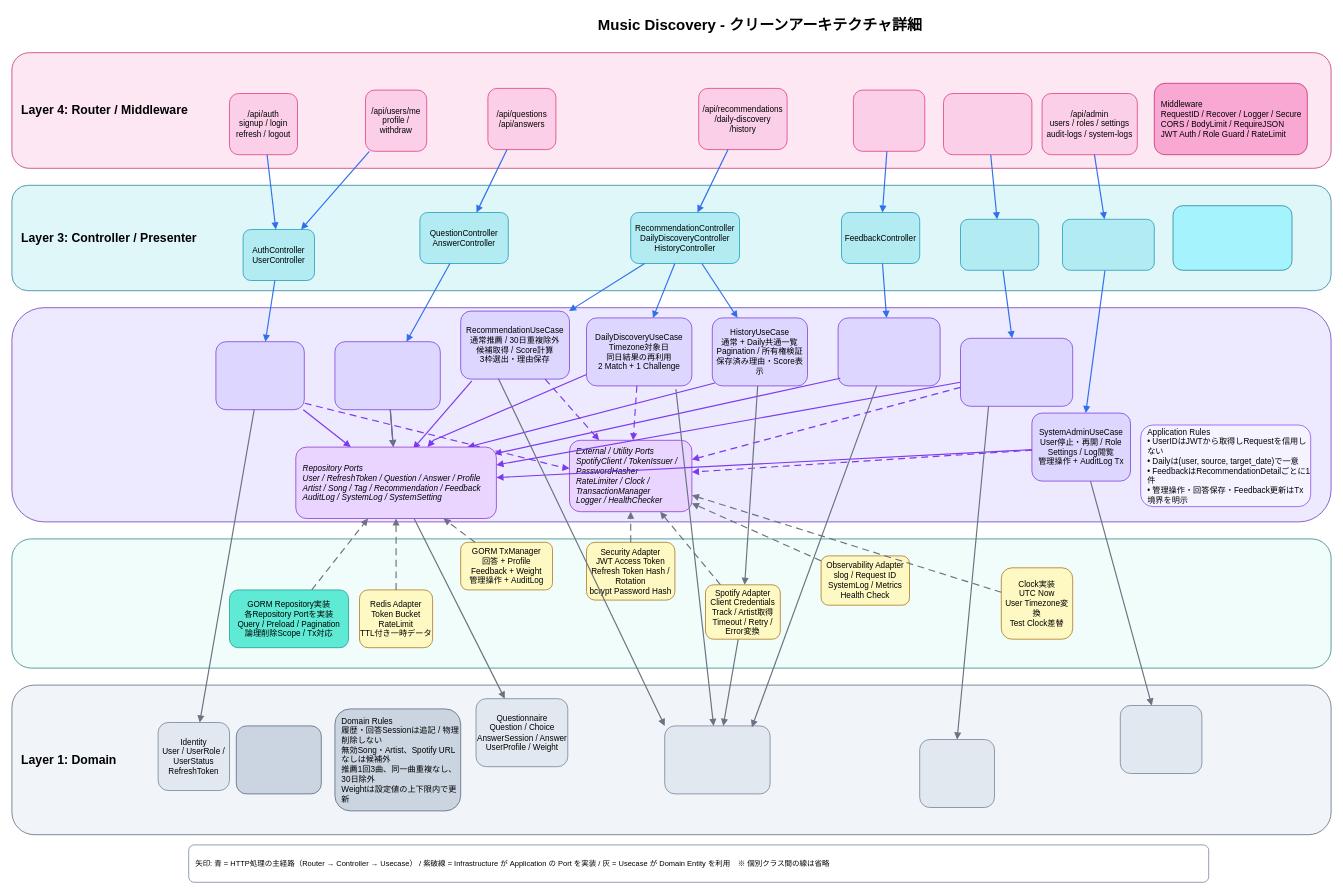
This 1343x894 diagram has some shape labels left out. The shapes that lost their labels are listed below. From the top down, each one's box as (x1, y1, x2, y2) in pixels, then its label:
(853, 89, 925, 151): /api/feedbacks 登録 / 変更
(943, 93, 1032, 155): /api/admin artists / songs / tags 推薦統計
(960, 219, 1039, 270): ArtistController SongController TagController
(1062, 219, 1154, 270): AdminUserController RoleController Log / Setting Controller
(1172, 205, 1292, 270): Request DTO / Validation Response DTO / Error Mapping Cookie / HTTP Status
(837, 317, 940, 386): FeedbackUseCase 所有権検証 / 登録・変更 Genre / Artist / Song Weightを同一Txで更新
(215, 341, 304, 410): AuthUseCase Signup / Login Refresh Rotation / Logout Withdraw / Profile
(334, 341, 440, 410): QuestionAnswerUseCase 質問一覧 / 回答検証 Session追記 Profile初期化・更新
(960, 338, 1073, 406): ContentAdminUseCase Artist / Song / Tag CRUD 論理削除 / 再開 Spotify取込 / 推薦統計
(11, 307, 1331, 522): Layer 2: Application / Use Case
(11, 538, 1331, 668): Interface Adapters / Infrastructure
(236, 725, 321, 794): Domain Errors NotFound / Conflict Forbidden / Validation CandidateShortage
(664, 725, 770, 794): Recommendation Recommendation / Detail Source / Type / ScoreDetail Feedback
(1120, 705, 1202, 774): Operations AuditLog / SystemLog SystemSetting
(919, 739, 995, 808): Catalog Artist / Song / Tag ArtistTag / SongTag
